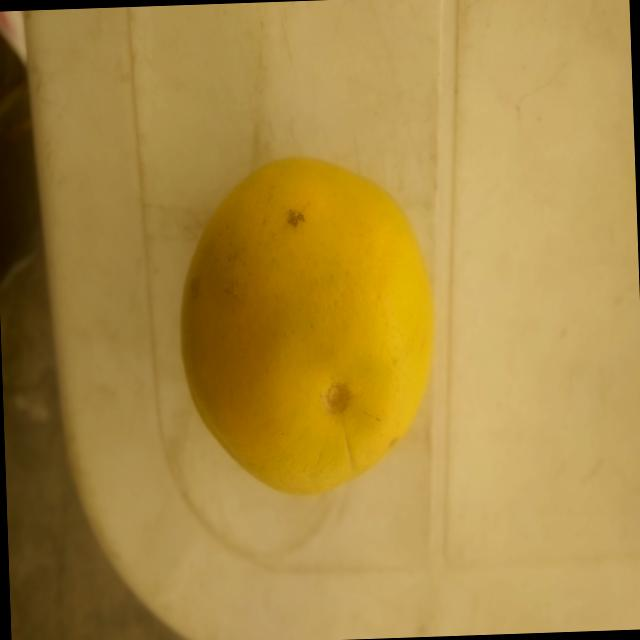Ripe orange: (148, 137, 453, 518)
